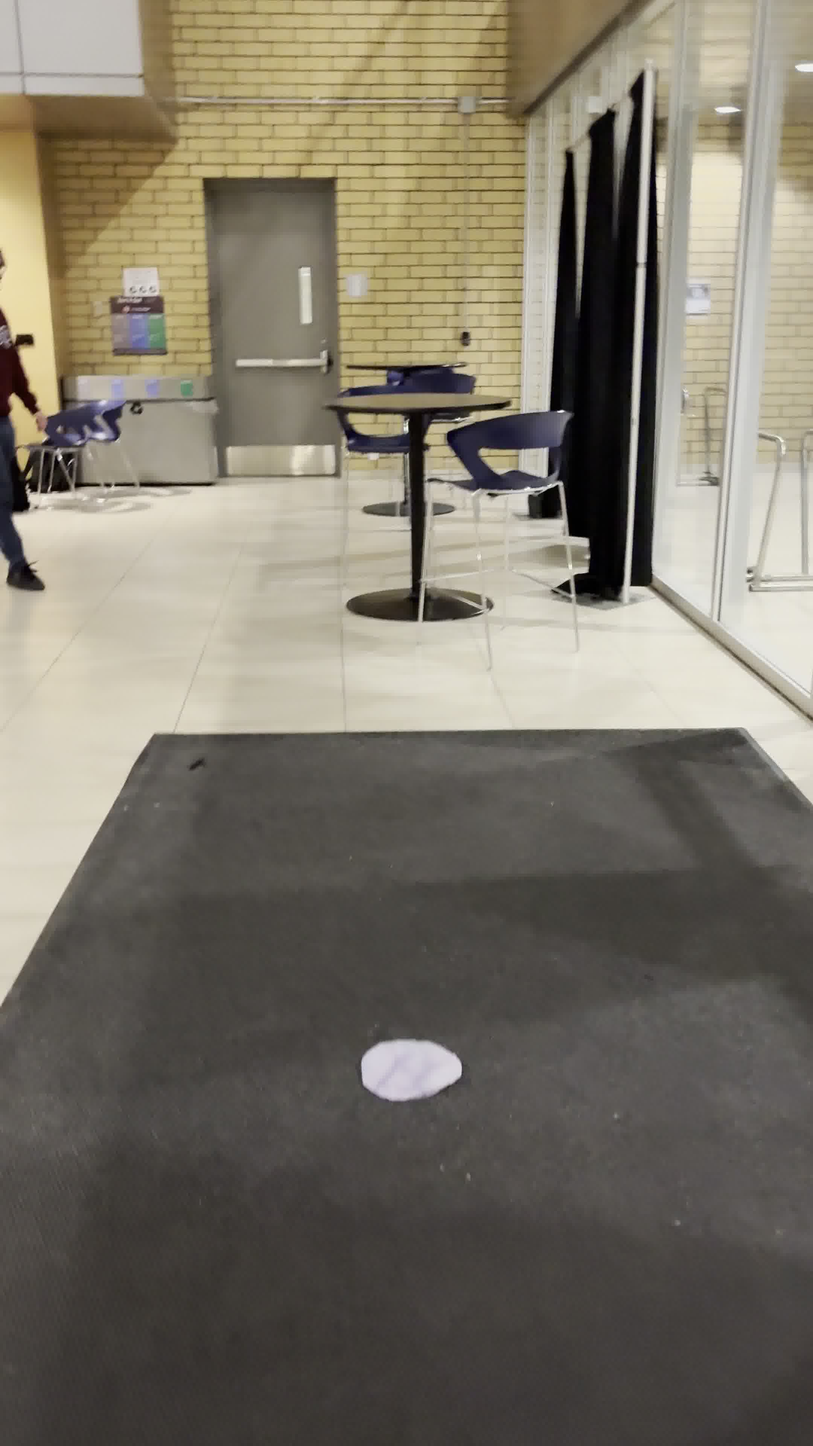Target: (358, 1034, 465, 1103)
